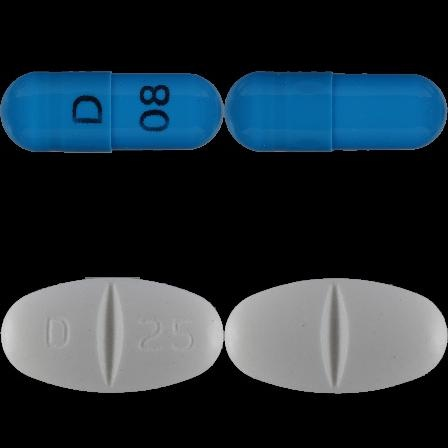65862-477: (0, 0, 224, 224)
